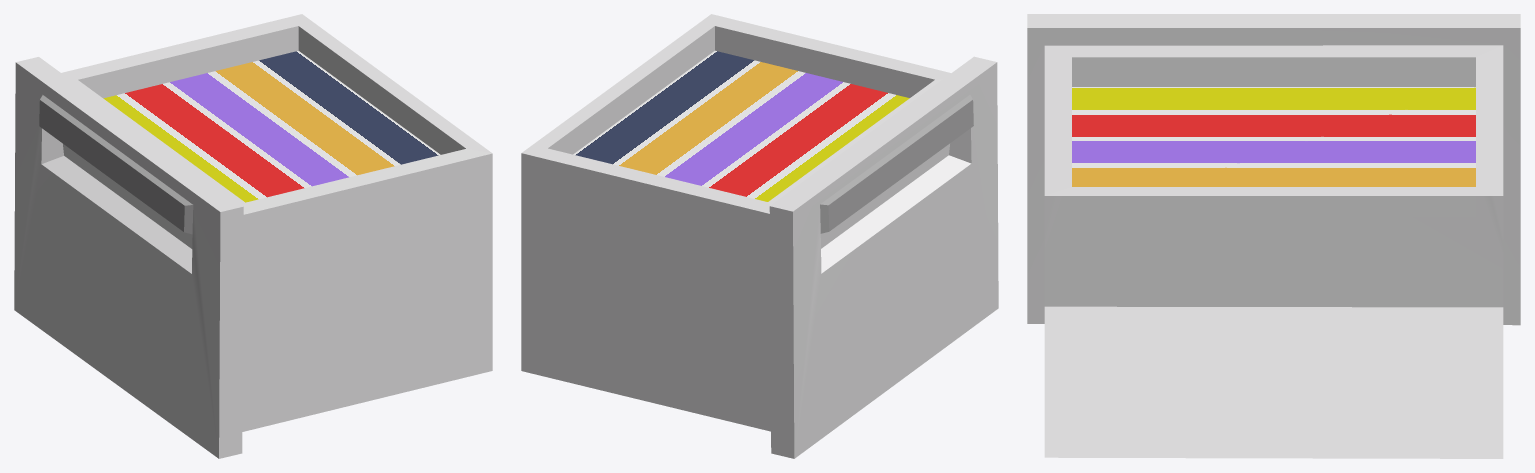
File: Refrigerator_Cooler_Drawer.fbx
3 views of the same model, side by side, from view 1: azimuth 30°, elevation 25°; view 2: azimuth 150°, elevation 25°; view 3: azimuth 270°, elevation 25° (orthographic). The views are drawn at different scales.
Parts seen in each view (by area): view 1: Drawer9; view 2: Drawer9; view 3: Drawer9.
Part boxes in pixels (bbox=[...]): Drawer9: bbox=[14, 14, 492, 458]; Drawer9: bbox=[521, 14, 998, 458]; Drawer9: bbox=[1027, 14, 1520, 458].
Bounding box in the file's own units: 65.97 × 54.62 × 81.84.
